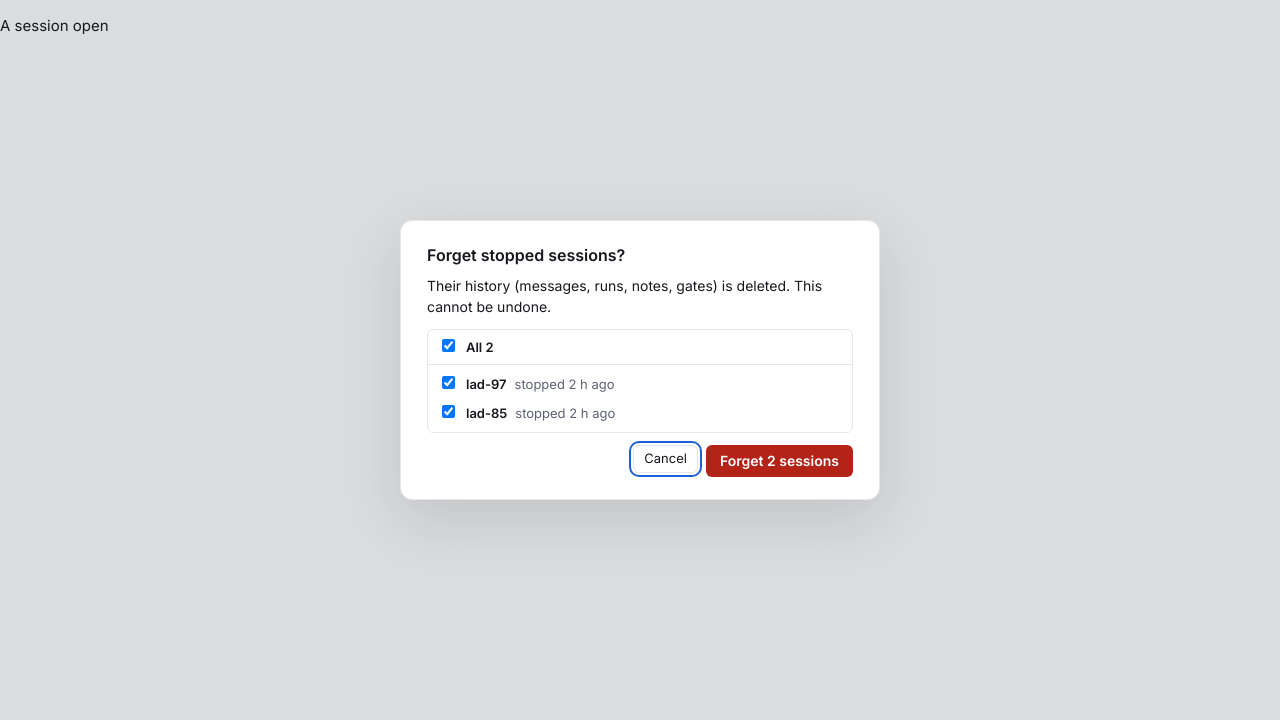
Scenario: when the session open in the page is forgotten, the page goes to /sessions
Check: the text "A session open" is shown, box [0,16,109,35]
Step 1. Click the button "Forget 2 sessions" → (779, 461), box [706,445,853,477]
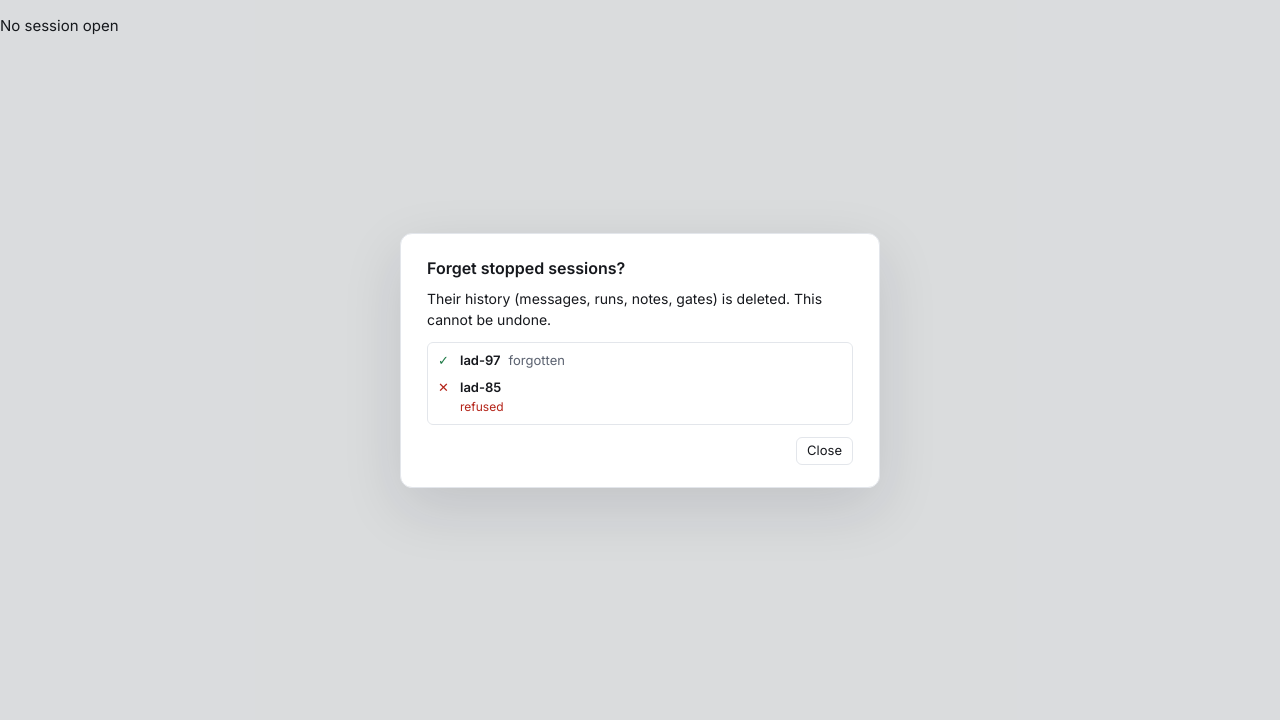
Check: the button "Close" is shown, box [796,436,853,464]
Check: the text "No session open" is shown, box [0,16,118,35]
